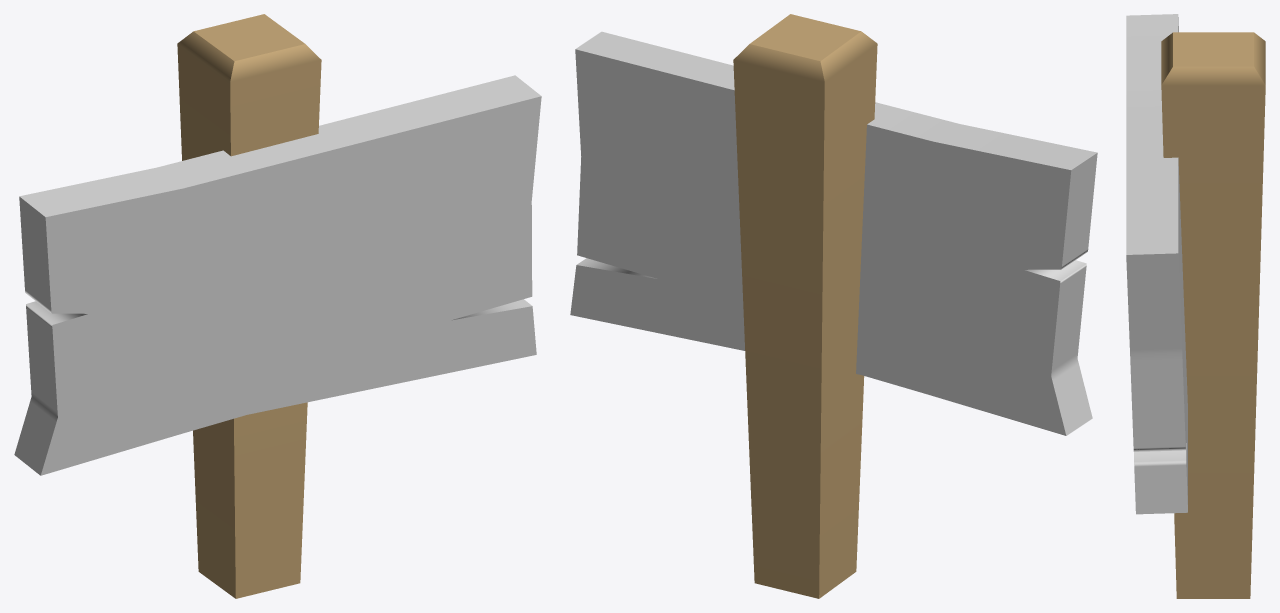
File: Sign.fbx
The picture shows the model from 3 angles, left to right: view 1: azimuth 30°, elevation 25°; view 2: azimuth 150°, elevation 25°; view 3: azimuth 270°, elevation 25°; orthographic projection.
Visible parts, largest first — view 1: pCube3; view 2: pCube3; view 3: pCube3.
Part boxes in pixels (left/top/right/bottom): pCube3: left=14, top=14, right=541, bottom=598; pCube3: left=570, top=14, right=1097, bottom=598; pCube3: left=1126, top=14, right=1265, bottom=598.
Size of the model in its own units: 3.26 by 3.39 by 0.802.
